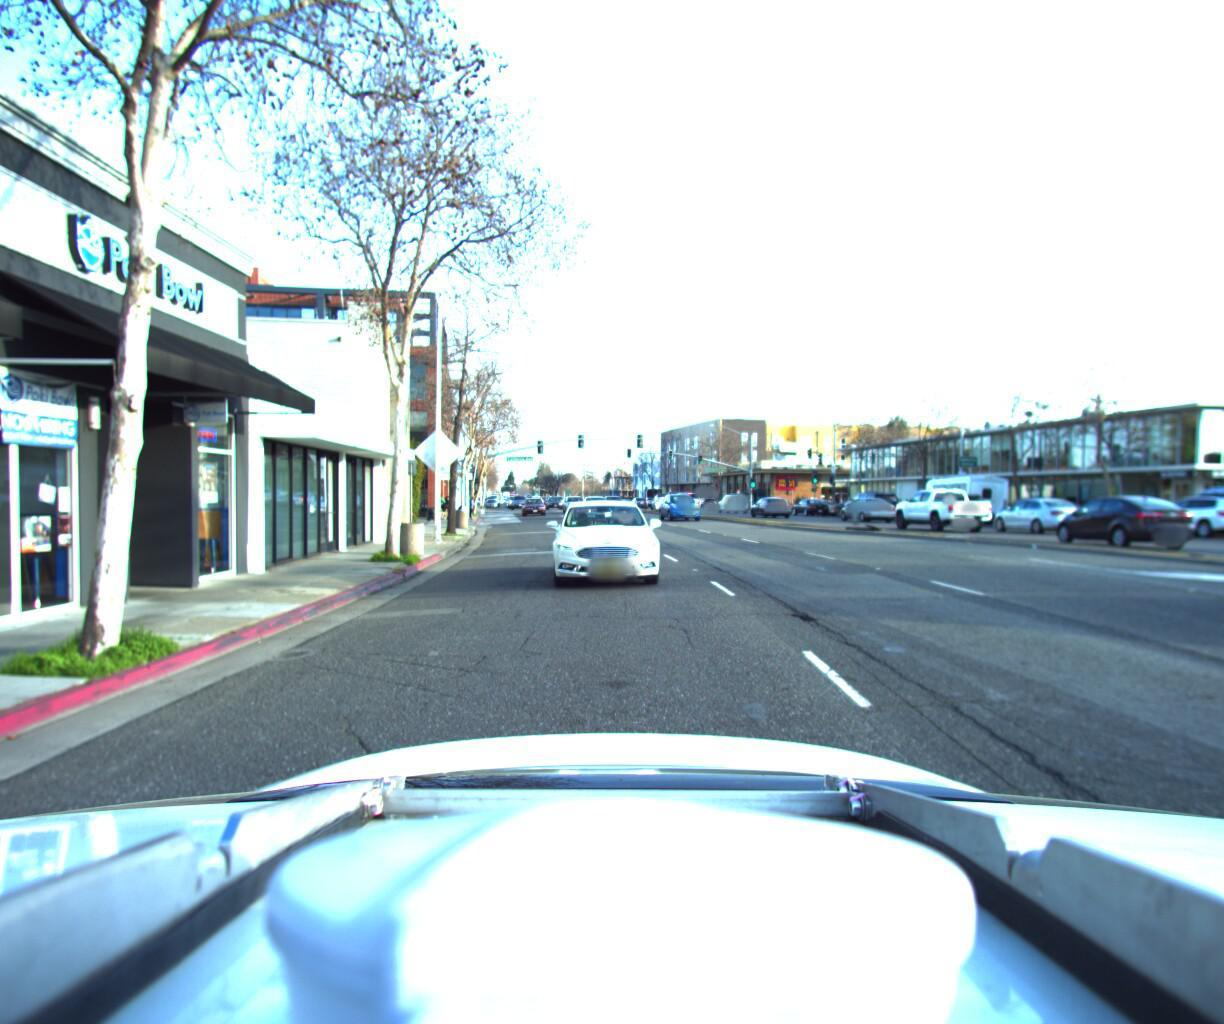bus: (916, 467, 1012, 519)
car: (546, 494, 661, 593), (1028, 483, 1186, 544), (1140, 477, 1224, 535), (877, 483, 983, 528), (977, 486, 1081, 528), (839, 484, 900, 513), (831, 491, 893, 516), (660, 489, 705, 519), (741, 488, 789, 513), (560, 487, 585, 507), (519, 492, 544, 513)
